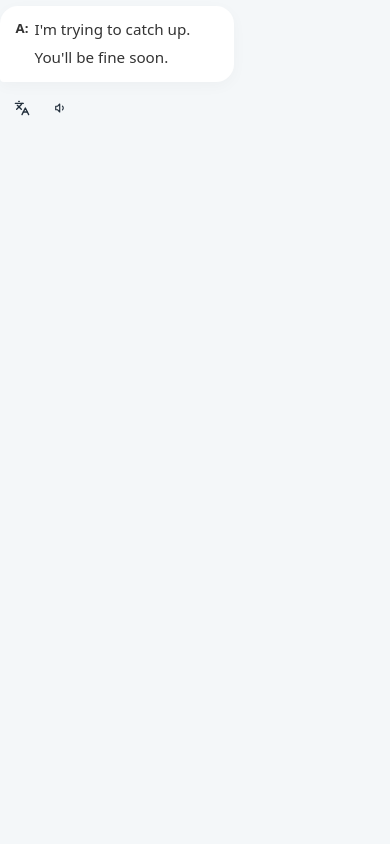
it: LessonReader 移动端训练模式下点击只有一条 chunk 的句子时会默认选中第一条
Click the text "You'll be fine soon.": point(101, 57) [34, 47, 168, 67]
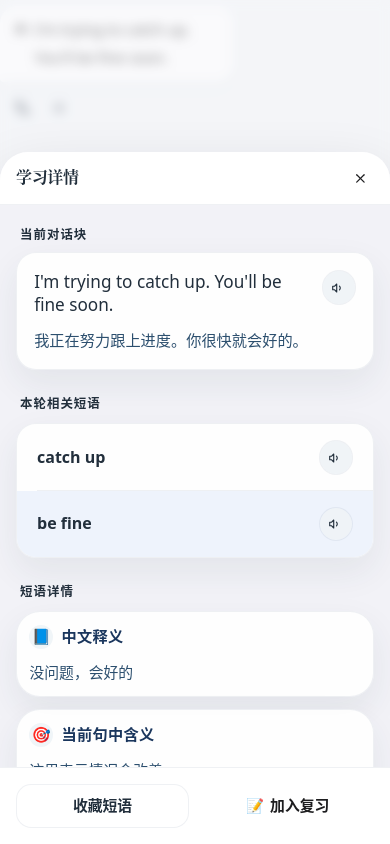
Expected: the text "没问题，会好的" is shown, [30, 662, 133, 682]
